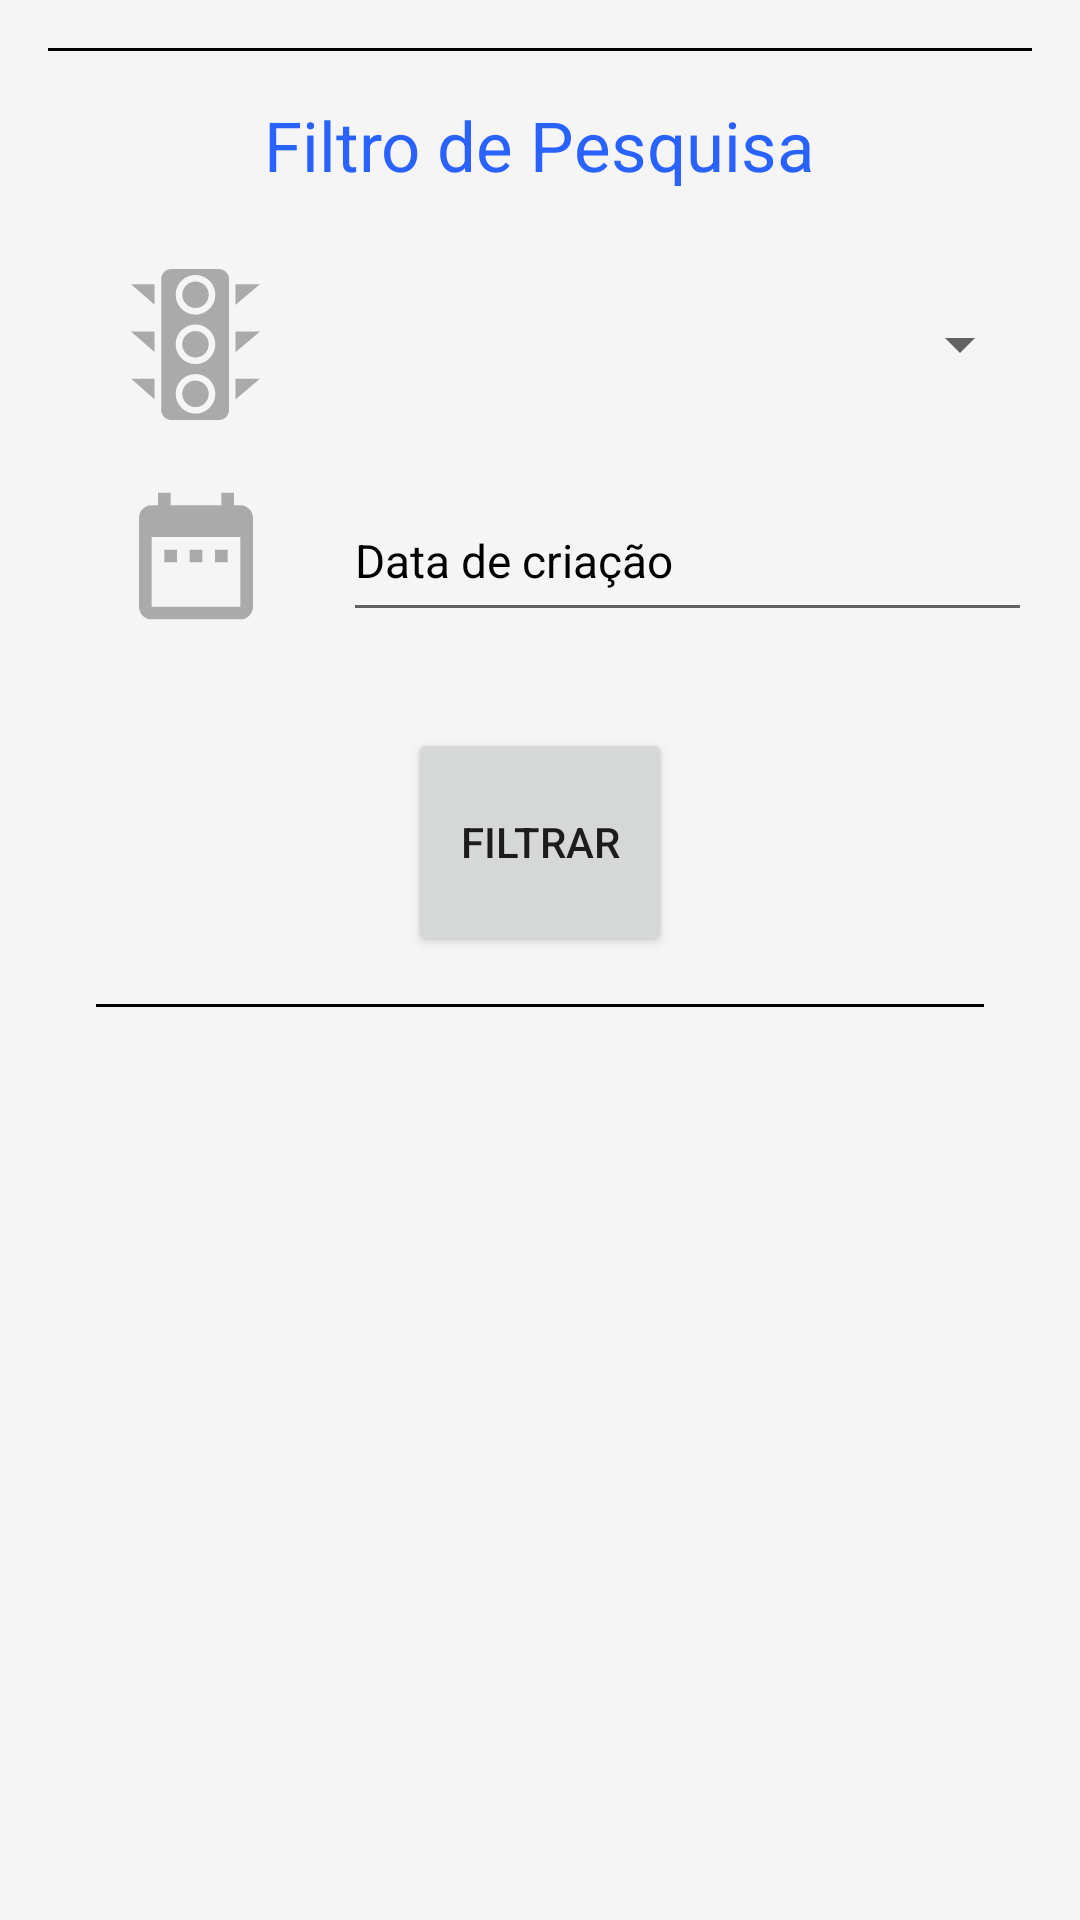

Where to tap for icons on this 1080*1920 app screen, as (x=x, y=y):
date calendar: (x=196, y=556)
traffic: (x=195, y=344)
